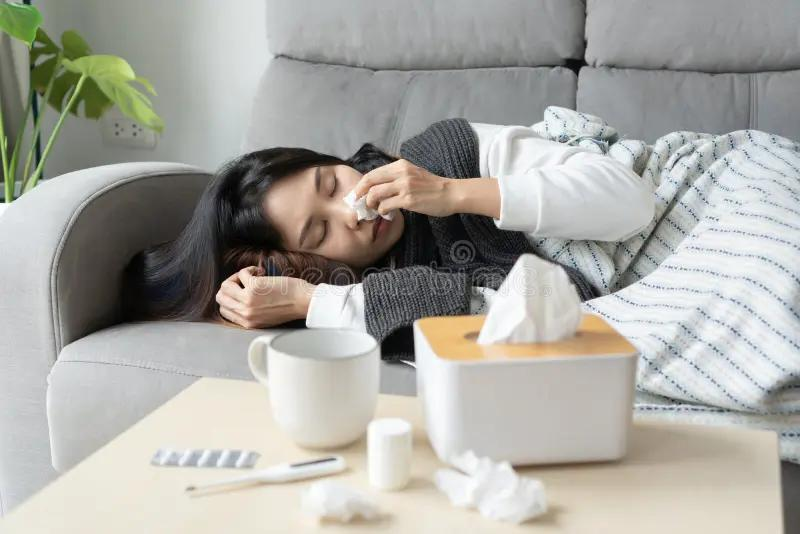blanket: (518, 105, 800, 466)
sweater: (304, 121, 655, 347)
